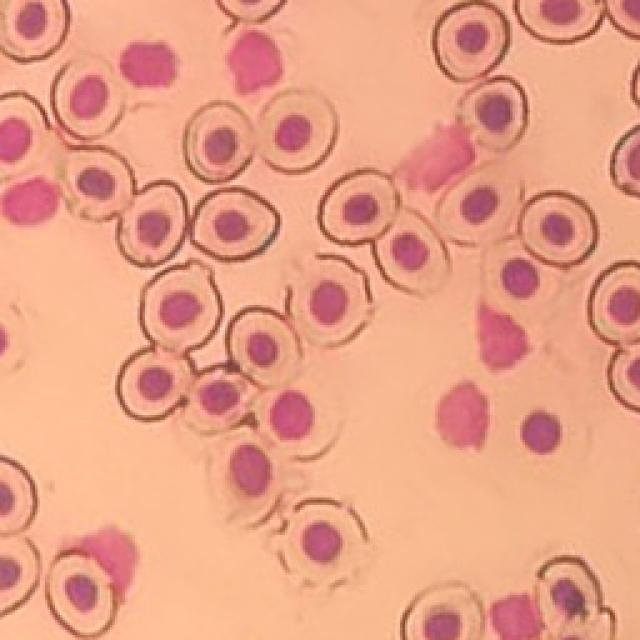RBC: (274, 498, 369, 587), (286, 254, 372, 348), (140, 260, 222, 353), (209, 428, 284, 526), (436, 161, 522, 245), (479, 238, 564, 319), (252, 381, 340, 459), (372, 209, 450, 294), (536, 556, 615, 639), (260, 90, 338, 172), (191, 188, 280, 259), (51, 55, 125, 140), (432, 1, 510, 81), (226, 308, 301, 388), (46, 552, 116, 637), (320, 170, 400, 244), (520, 191, 598, 266), (118, 181, 185, 266), (184, 101, 254, 182), (118, 348, 192, 420), (458, 76, 529, 151), (62, 148, 134, 221), (185, 368, 258, 432), (401, 584, 482, 640), (0, 0, 70, 61), (0, 92, 49, 179), (589, 262, 640, 344), (515, 0, 604, 42), (0, 536, 39, 616), (0, 456, 38, 534), (609, 344, 640, 411), (611, 125, 640, 196)
WBC: (46, 528, 138, 638), (395, 122, 475, 192), (228, 31, 282, 94), (438, 382, 489, 448), (478, 304, 529, 369), (2, 178, 58, 224), (120, 42, 176, 86), (490, 594, 541, 640), (521, 411, 561, 454)
